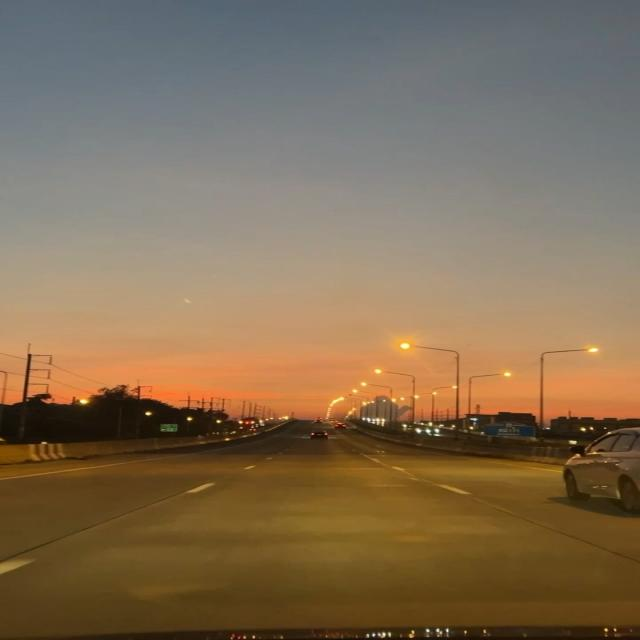Poth-hole: (176, 485, 539, 568)
